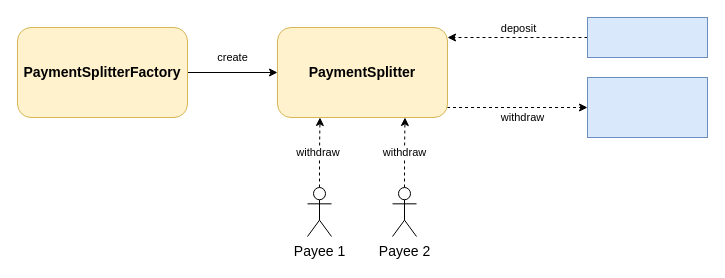
Image size: 725x278. Some labels were removed from this diagram. The shapes that lost their labels are listed below. From the top down, each one's box as (x1, y1, x2, y2) in pixels, then its label:
(586, 16, 708, 58): Contract A
(586, 76, 708, 138): Contract B function withdraw()
